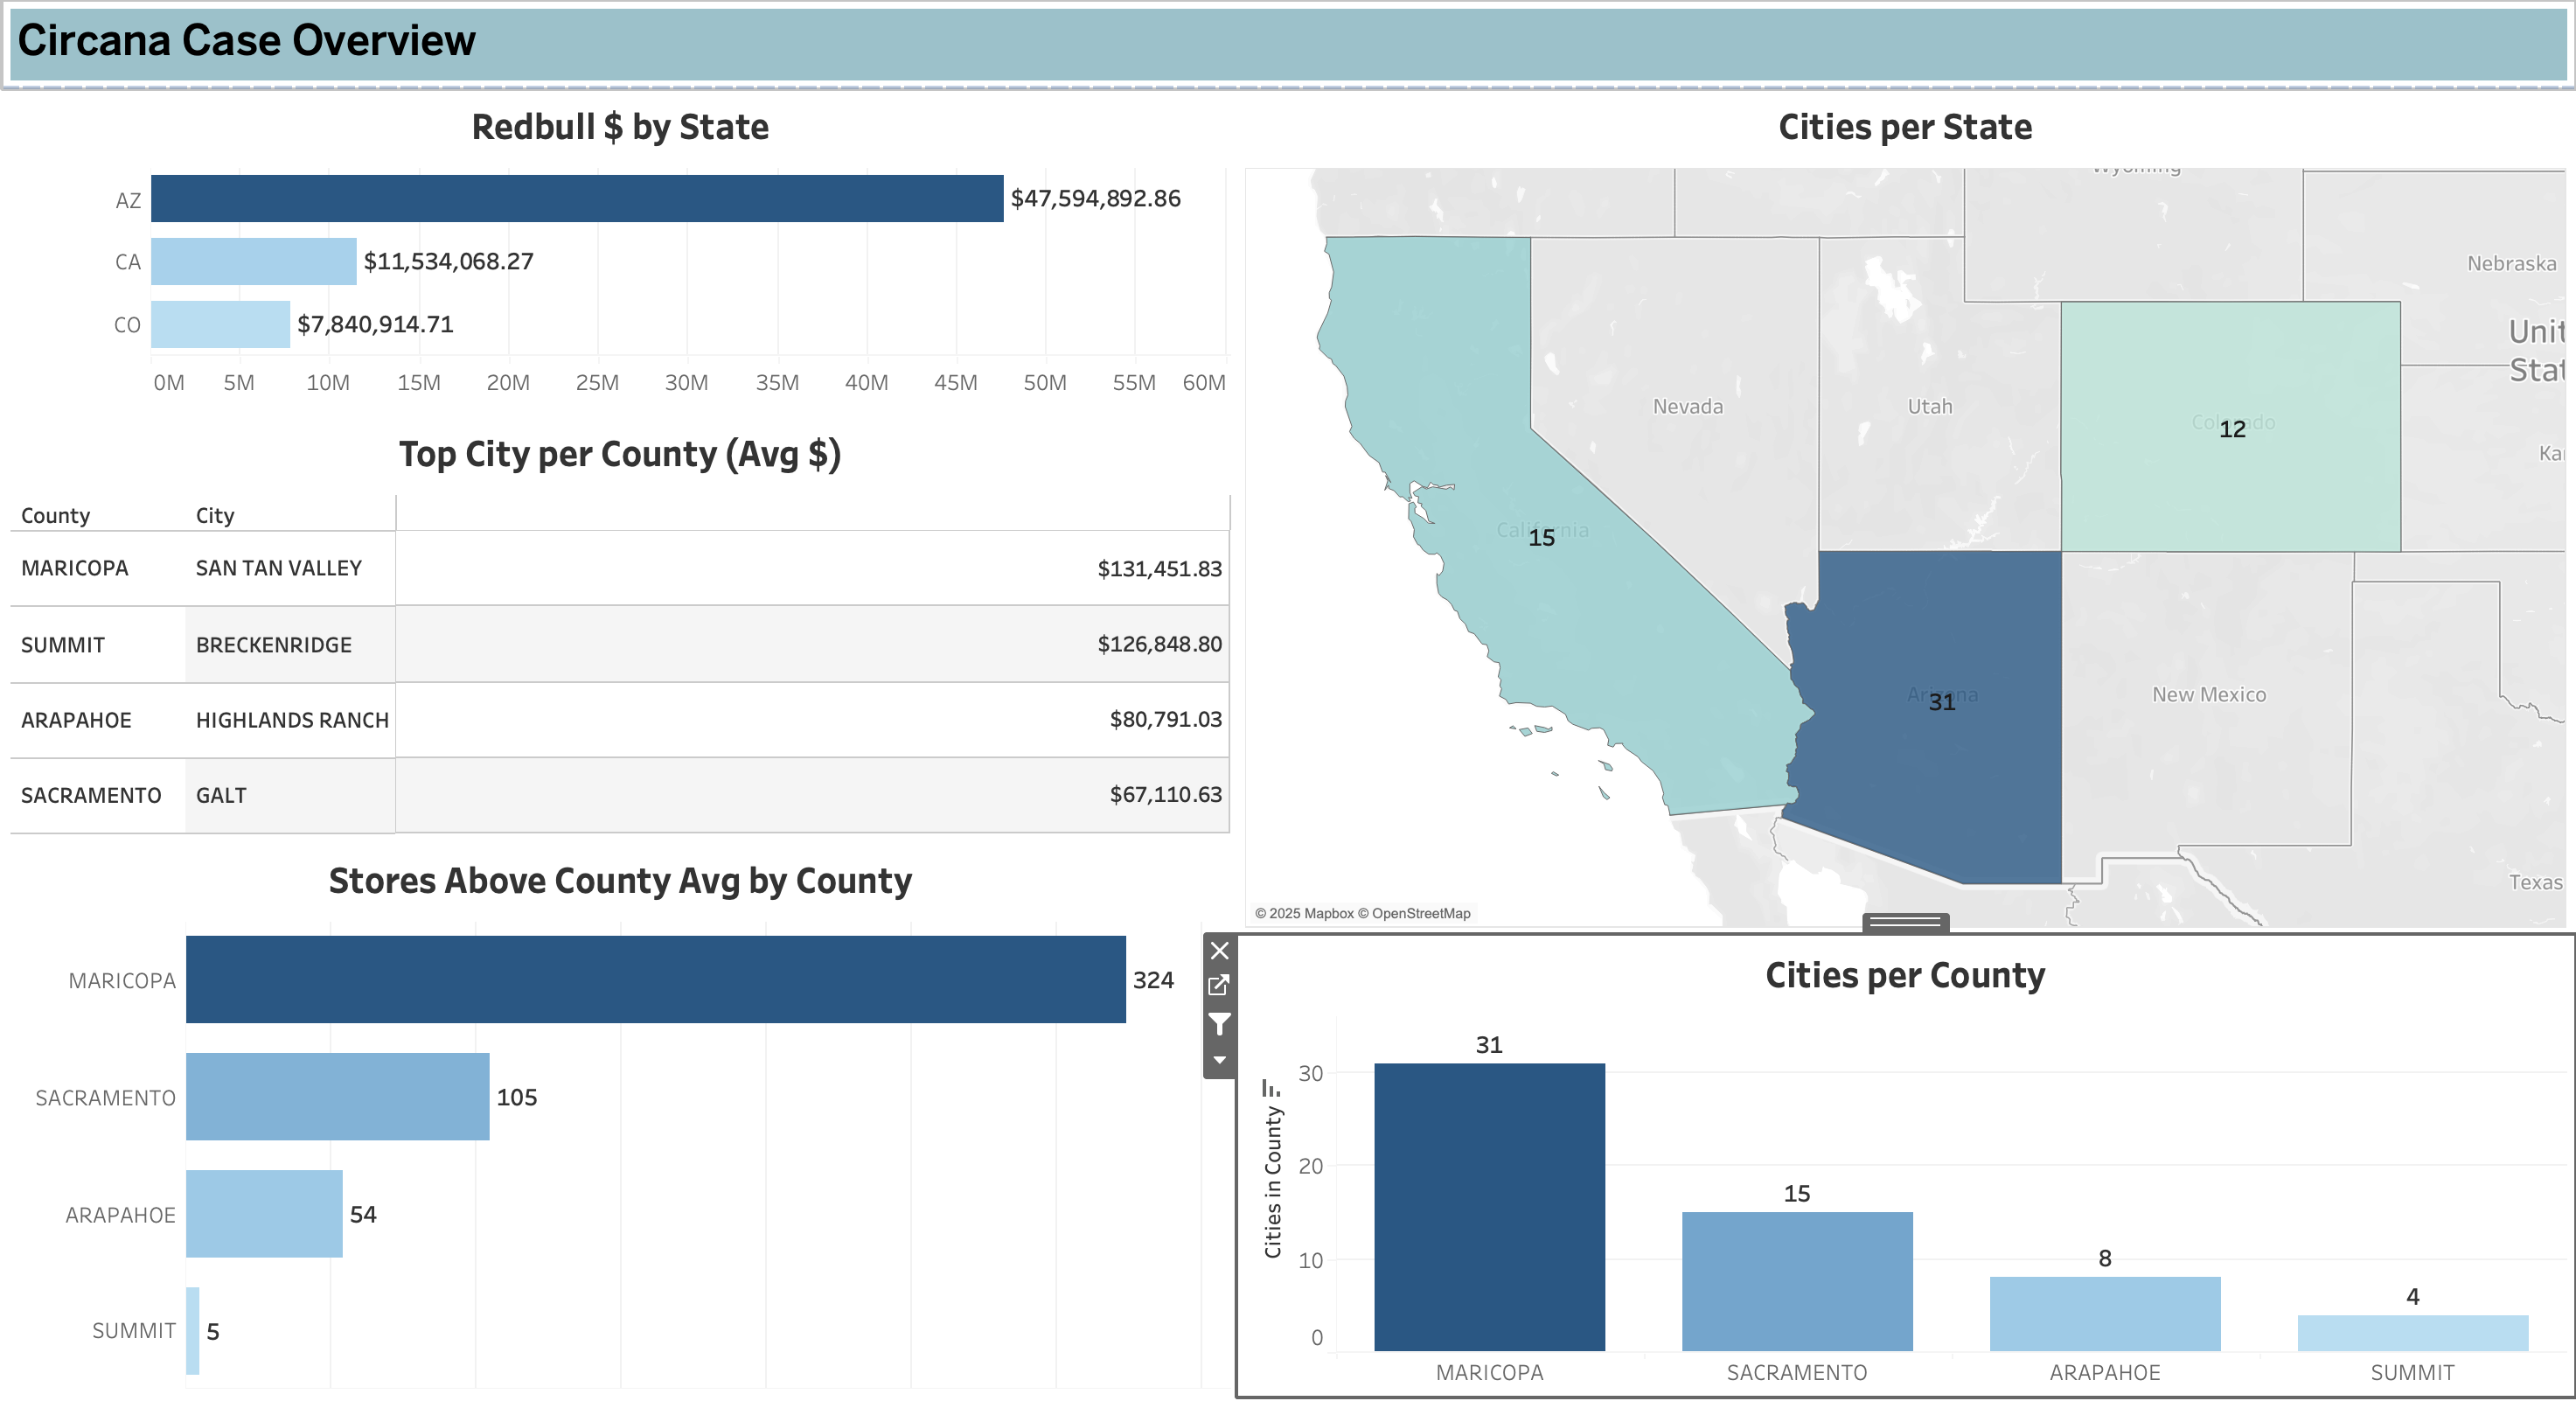

What the dashboard file says about the page in this screenshot:
{"tool":"tableau","page":{"name":"Dashboard 1","canvas":[1000,1000],"units":"permille","ordinal":0},"visuals":[{"type":"worksheet","title":"Dashboard 1 Title Card","mark":"Automatic","box":[5.4,11.2,989.2,60.3]},{"type":"worksheet","title":"S1Q1: Total Red Bull Dollar Sales of each State (desc)","mark":"Bar","rows":["State"],"cols":["Dollar Sales"],"box":[5.4,71.5,475.1,229.3]},{"type":"worksheet","title":"S1Q5: How many cities are in each State? (nice on a map)","mark":"Multipolygon","box":[480.5,71.5,514.1,594.6]},{"type":"worksheet","title":"S1Q2: Which City has the highest average Dollar Sales in each County?","mark":"Automatic","rows":["County","City"],"box":[5.4,300.8,475.1,299.4]},{"type":"worksheet","title":"S1Q3: Which County has the most stores above the county average?","mark":"Automatic","rows":["County"],"cols":["Above Avg Flag"],"box":[5.4,600.2,475.1,388.6]},{"type":"worksheet","title":"S1Q4: How many cities are in each County?","mark":"Automatic","rows":["Calculation_2124573181580222467"],"cols":["County"],"box":[480.5,666.1,514.1,322.6]}]}

Visuals, with their boxes on the dashboard's canvas, which has no fixed pixel size, in thousandths of its width and height (x1, y1, x2, y2). These are canvas units, not pixel positions in the 2576x1408 screenshot, which may show the page scaled, cropped or inside an application window:
"Dashboard 1 Title Card" worksheet: (5, 11, 995, 72)
"S1Q1: Total Red Bull Dollar Sales of each State (desc)" worksheet (Bar marks): (5, 72, 480, 301)
"S1Q5: How many cities are in each State? (nice on a map)" worksheet (Multipolygon marks): (480, 72, 995, 666)
"S1Q2: Which City has the highest average Dollar Sales in each County?" worksheet: (5, 301, 480, 600)
"S1Q3: Which County has the most stores above the county average?" worksheet: (5, 600, 480, 989)
"S1Q4: How many cities are in each County?" worksheet: (480, 666, 995, 989)
